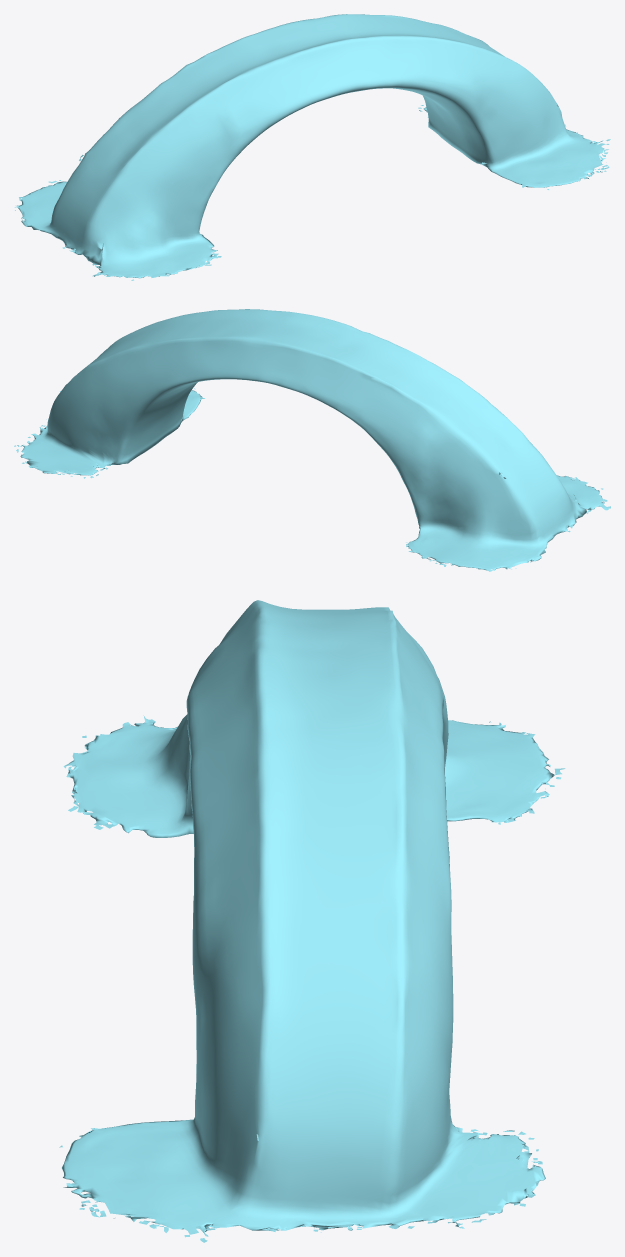
Rendered from pulll.glb.
3 renders of one model, top to bottom at view 1: azimuth 30°, elevation 25°; view 2: azimuth 150°, elevation 25°; view 3: azimuth 270°, elevation 25°, orthographic. The views are drawn at different scales.
Parts seen in each view (by area): view 1: Mesh_0; view 2: Mesh_0; view 3: Mesh_0.
Boxes of the visible parts, x1,y1,x2,y2 form: Mesh_0: (14,14,610,280); Mesh_0: (14,309,610,571); Mesh_0: (59,600,565,1242).
Bounding box in the file's own units: 1.87 × 0.5188 × 0.7729.
